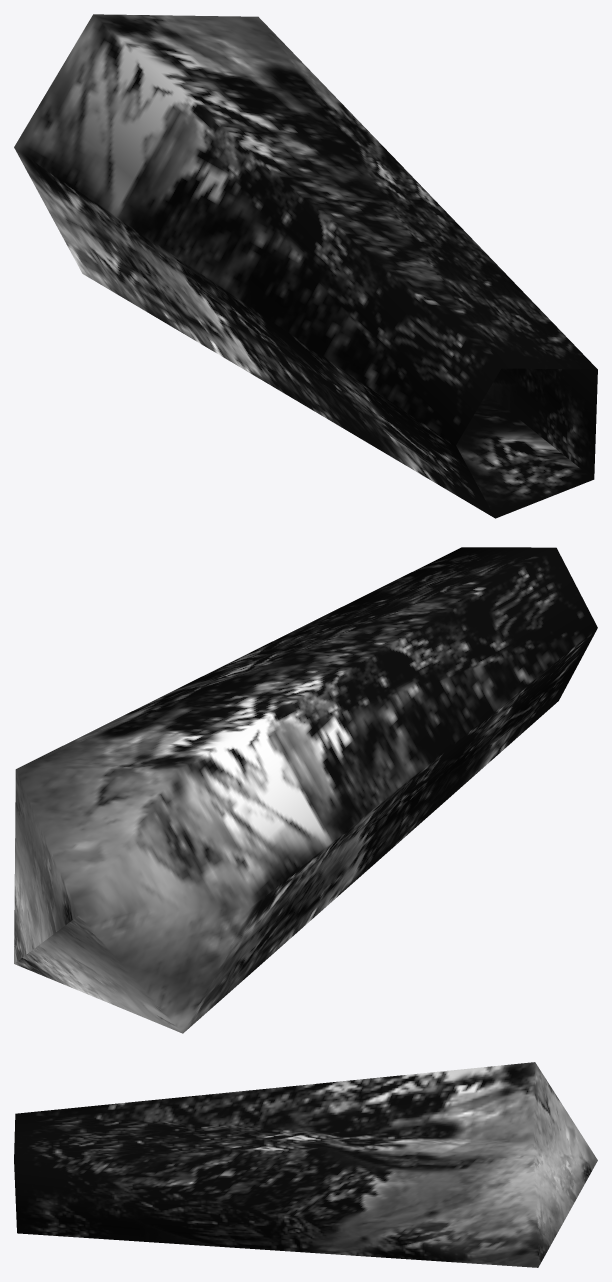
The model's file is MEP_Crystal_02.fbx.
The picture shows the model from 3 angles, top to bottom: view 1: azimuth 30°, elevation 25°; view 2: azimuth 150°, elevation 25°; view 3: azimuth 270°, elevation 25°; orthographic projection. The views are drawn at different scales.
Visible parts, largest first — view 1: MEP_Crystal_02; view 2: MEP_Crystal_02; view 3: MEP_Crystal_02.
Boxes of the visible parts, x1,y1,x2,y2 form: MEP_Crystal_02: (14, 14, 597, 518); MEP_Crystal_02: (14, 547, 597, 1033); MEP_Crystal_02: (14, 1062, 597, 1267).
Bounding box in the file's own units: 1.15 × 1.19 × 3.67.
1 material, 1 textured.
